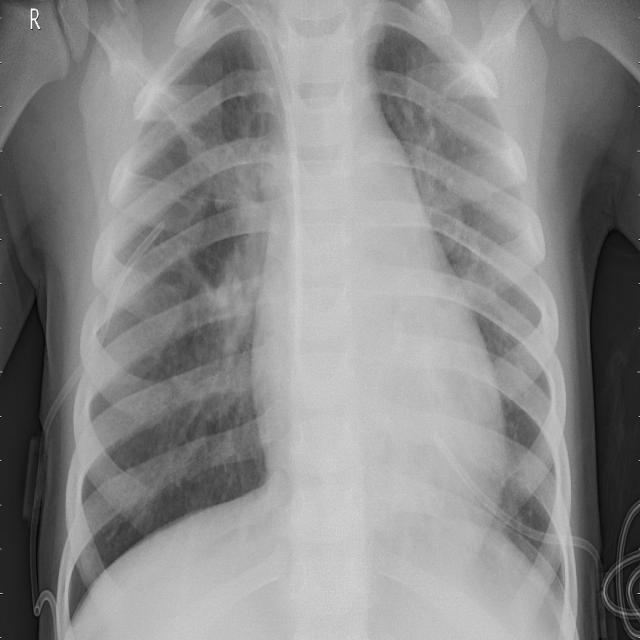low-pneumonia: (202, 138, 281, 386), (410, 124, 487, 262)
